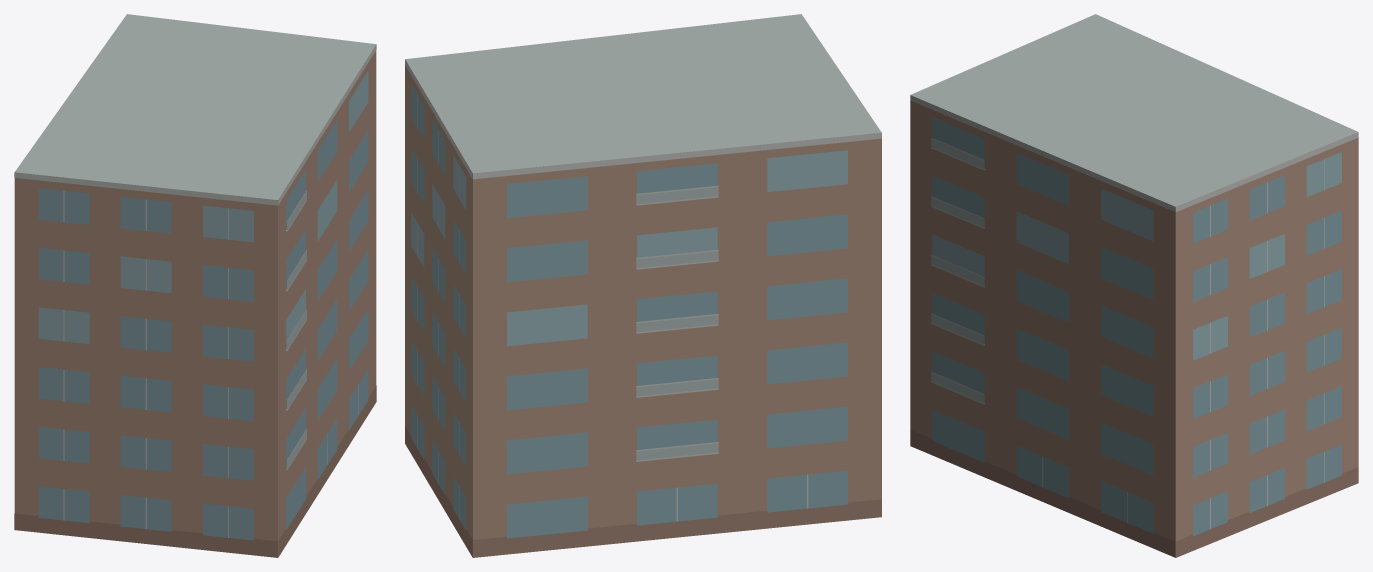
File: survey-upis-32528566.glb
The picture shows the model from 3 angles, left to right: view 1: azimuth 30°, elevation 25°; view 2: azimuth 150°, elevation 25°; view 3: azimuth 270°, elevation 25°; orthographic projection. The views are drawn at different scales.
Parts seen in each view (by area): view 1: survey-upis-32528566.tmp; view 2: survey-upis-32528566.tmp; view 3: survey-upis-32528566.tmp.
Part boxes in pixels (left/top/right/bottom): survey-upis-32528566.tmp: left=14, top=14, right=376, bottom=557; survey-upis-32528566.tmp: left=405, top=14, right=881, bottom=557; survey-upis-32528566.tmp: left=910, top=14, right=1358, bottom=557.
Size of the model in its own units: 18.62 by 15.8 by 18.3.
